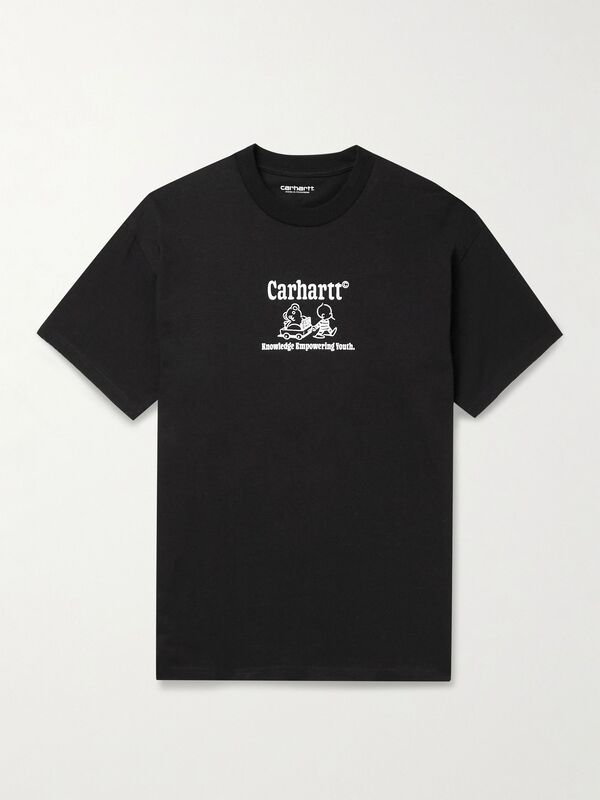tshirt: (26, 135, 574, 693)
